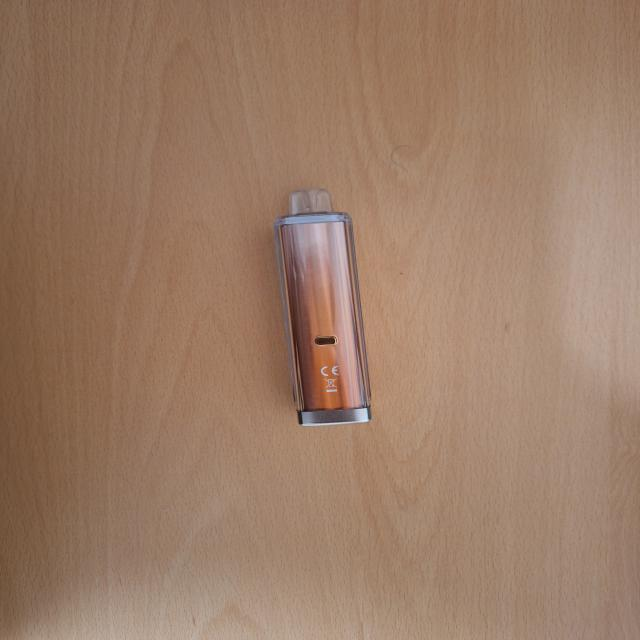Hazard: (272, 188, 372, 426)
